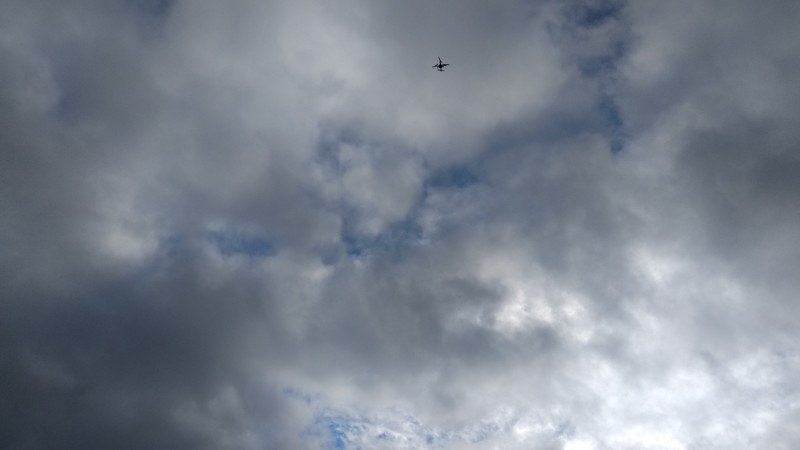drone: (431, 58, 450, 72)
